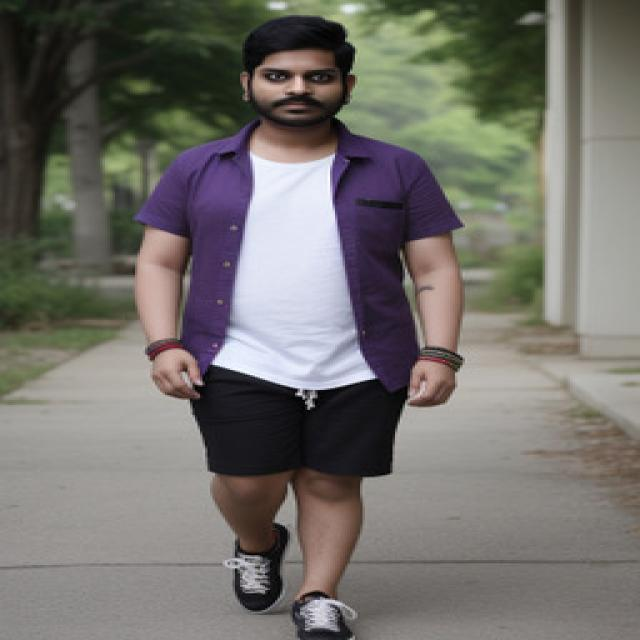Ai human 2: (125, 5, 469, 640)
